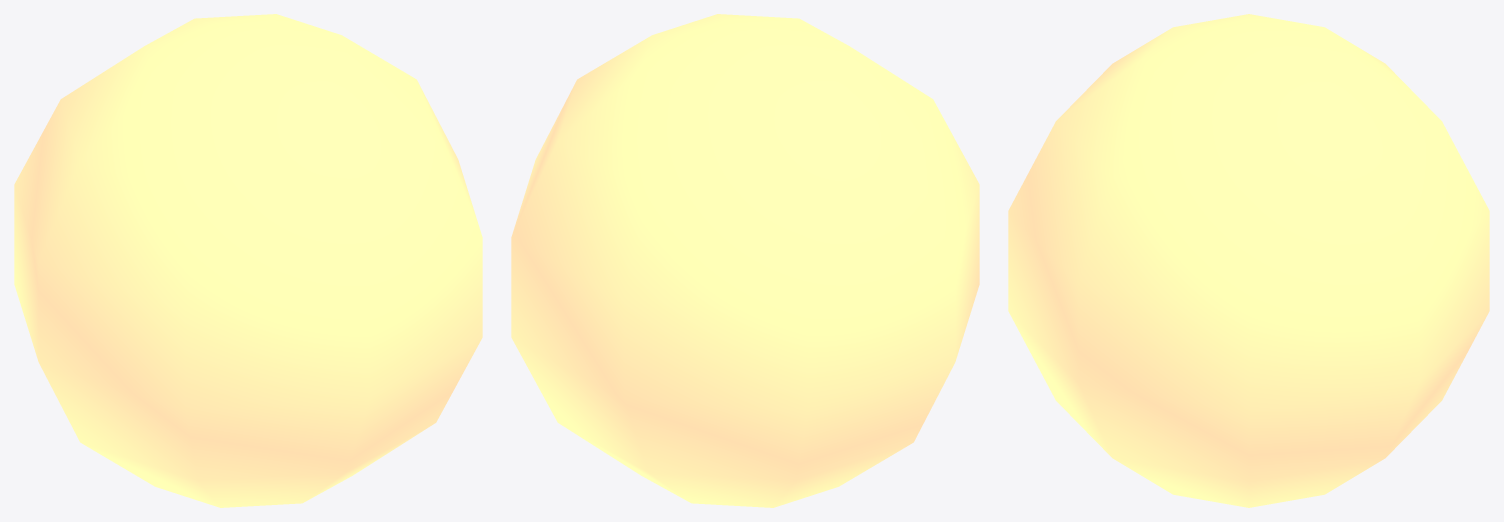
File: explosion.gltf
The picture shows the model from 3 angles, left to right: view 1: azimuth 30°, elevation 25°; view 2: azimuth 150°, elevation 25°; view 3: azimuth 270°, elevation 25°; orthographic projection.
Visible parts, largest first — view 1: OuterExplosion; view 2: OuterExplosion; view 3: OuterExplosion.
Boxes of the visible parts, left/top/right/bottom form: OuterExplosion: left=14, top=14, right=482, bottom=507; OuterExplosion: left=511, top=14, right=979, bottom=507; OuterExplosion: left=1008, top=14, right=1489, bottom=507.
Bounding box in the file's own units: 1.95 × 2 × 1.95.
